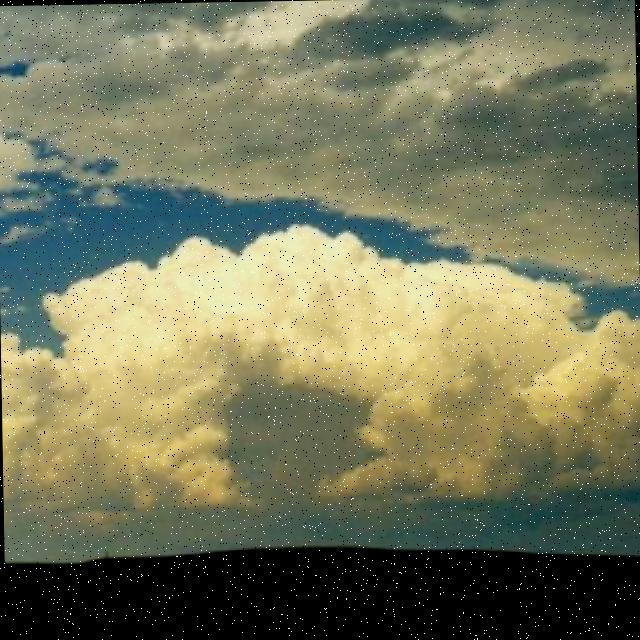Cu: (1, 62, 640, 519)
